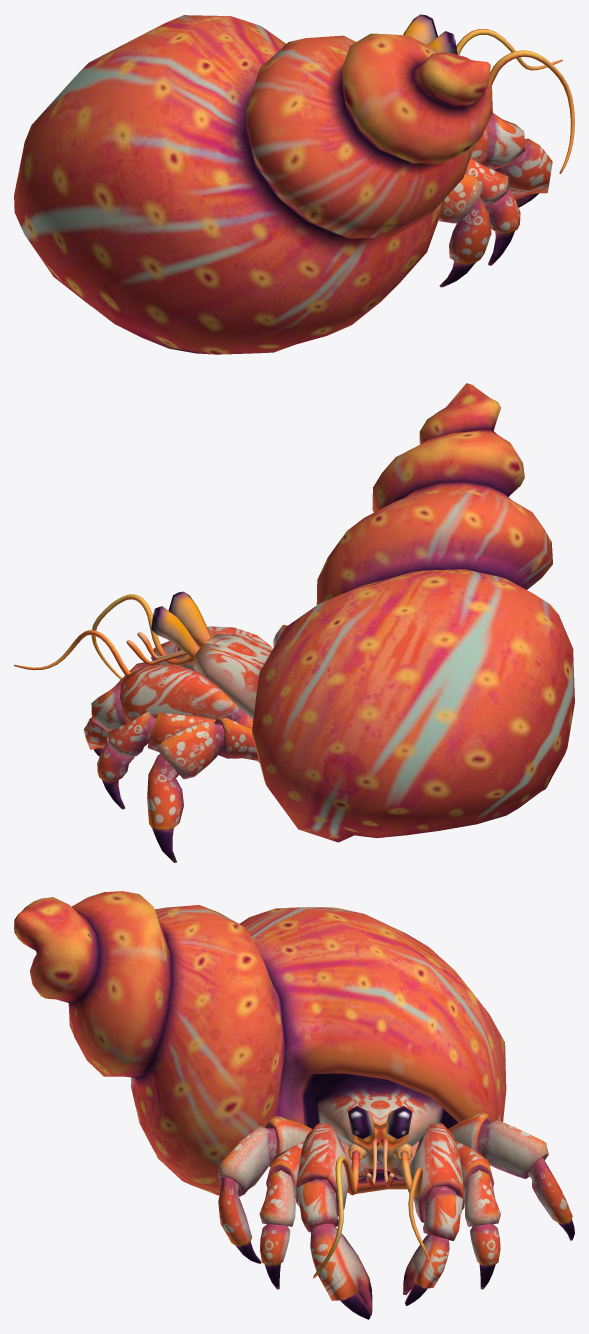
The model's file is hermit_crab.glb.
3 views of the same model, one above another, from view 1: azimuth 30°, elevation 25°; view 2: azimuth 150°, elevation 25°; view 3: azimuth 270°, elevation 25° (orthographic). The views are drawn at different scales.
Parts seen in each view (by area): view 1: Abs_LP_Checker_0; view 2: Abs_LP_Checker_0; view 3: Abs_LP_Checker_0.
Part boxes in pixels (<box>): Abs_LP_Checker_0: <box>14,14,574,354</box>; Abs_LP_Checker_0: <box>14,383,574,862</box>; Abs_LP_Checker_0: <box>14,891,574,1319</box>.
Size of the model in its own units: 1 by 0.5747 by 0.9375.
1 material, 1 textured.
